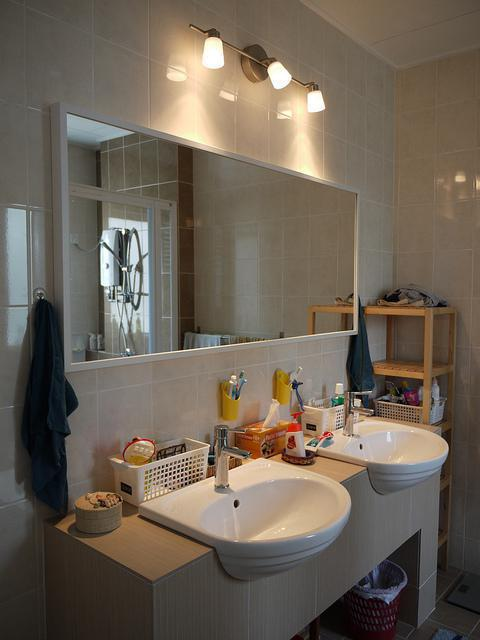Bote de Basura: (337, 554, 418, 636)
Lavamanos: (127, 421, 355, 585), (310, 399, 452, 505)
